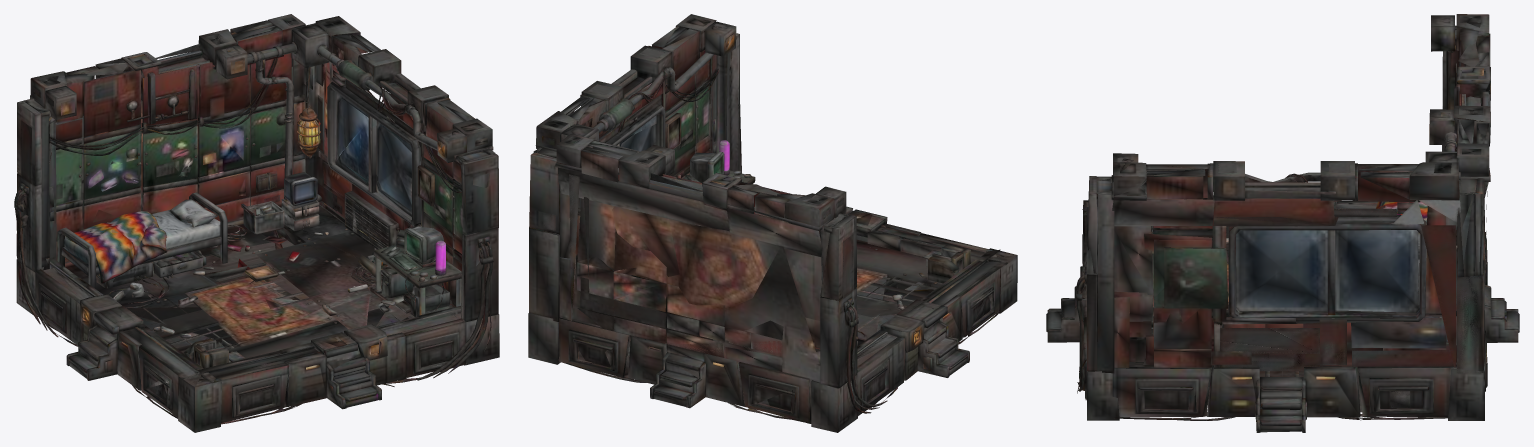
Rendered from jacki_room.glb.
The picture shows the model from 3 angles, left to right: view 1: azimuth 30°, elevation 25°; view 2: azimuth 150°, elevation 25°; view 3: azimuth 270°, elevation 25°; orthographic projection. The views are drawn at different scales.
Size of the model in its own units: 0.9595 by 0.5552 by 0.9536.
1 material, 1 textured.
